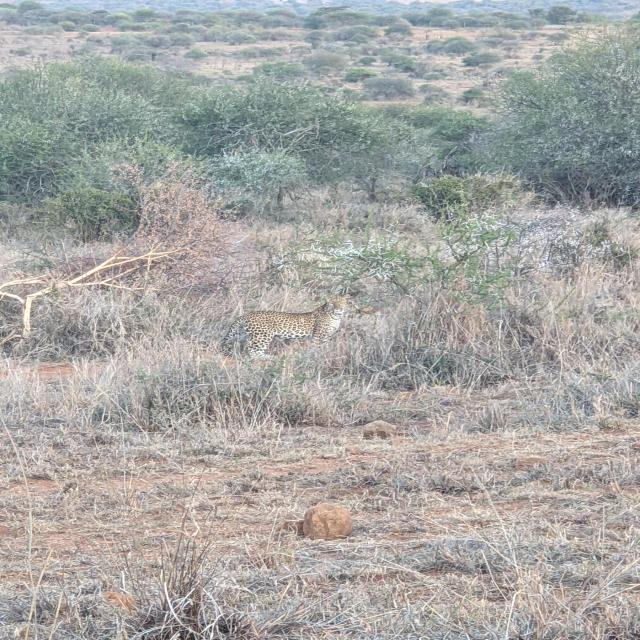Leopard: (214, 302, 346, 356)
